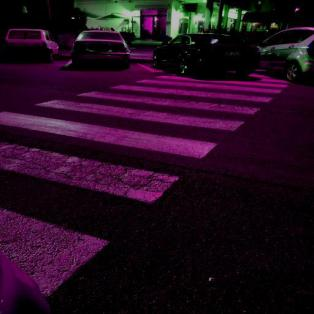Paso de Cebra: (29, 90, 268, 134)
